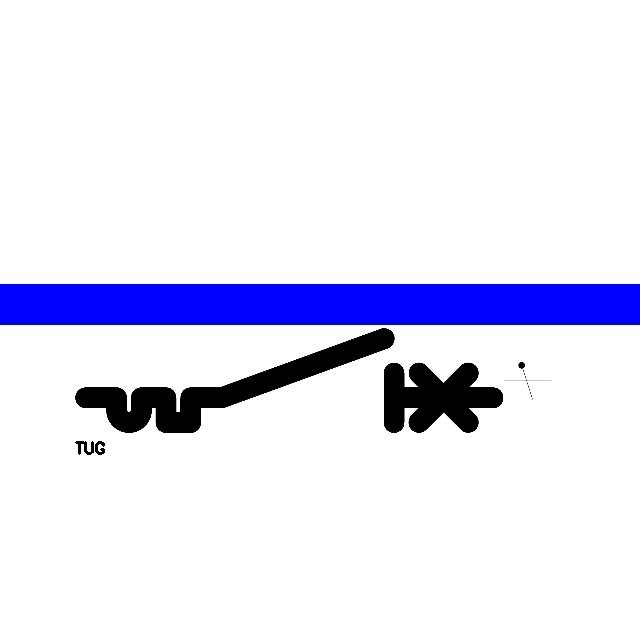interruptor_termomagnetico: (75, 328, 503, 433)
